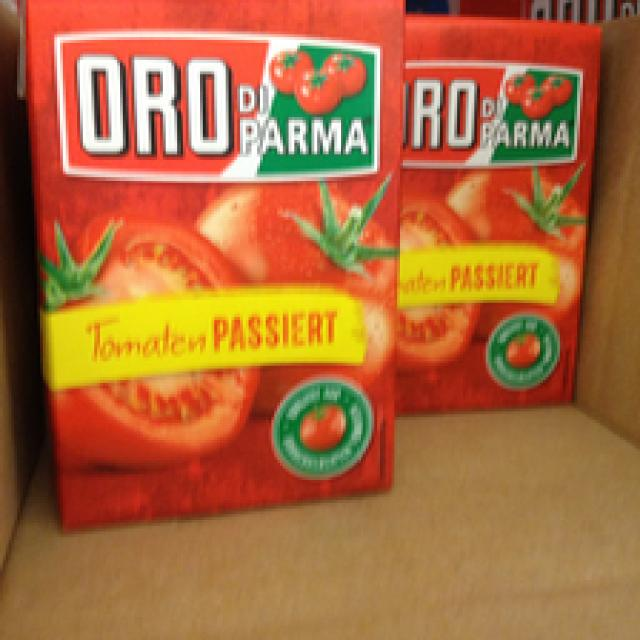groceries: (20, 0, 400, 531), (394, 9, 600, 412)
